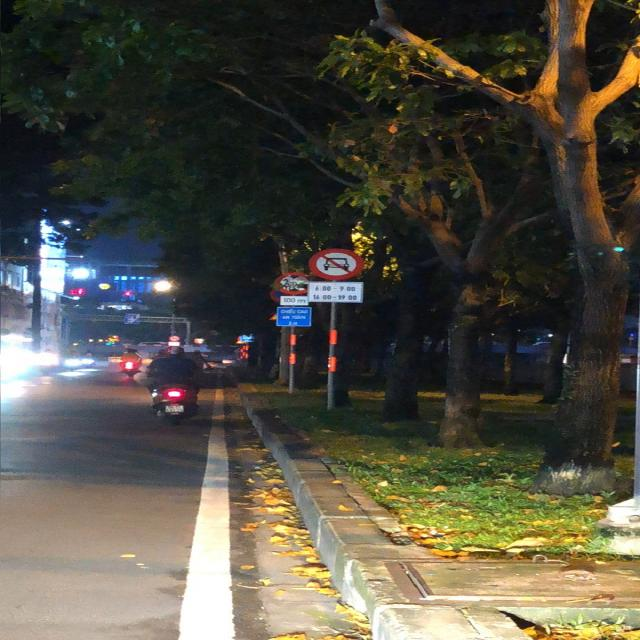Bien bao cam xe oto: (305, 246, 366, 280)
